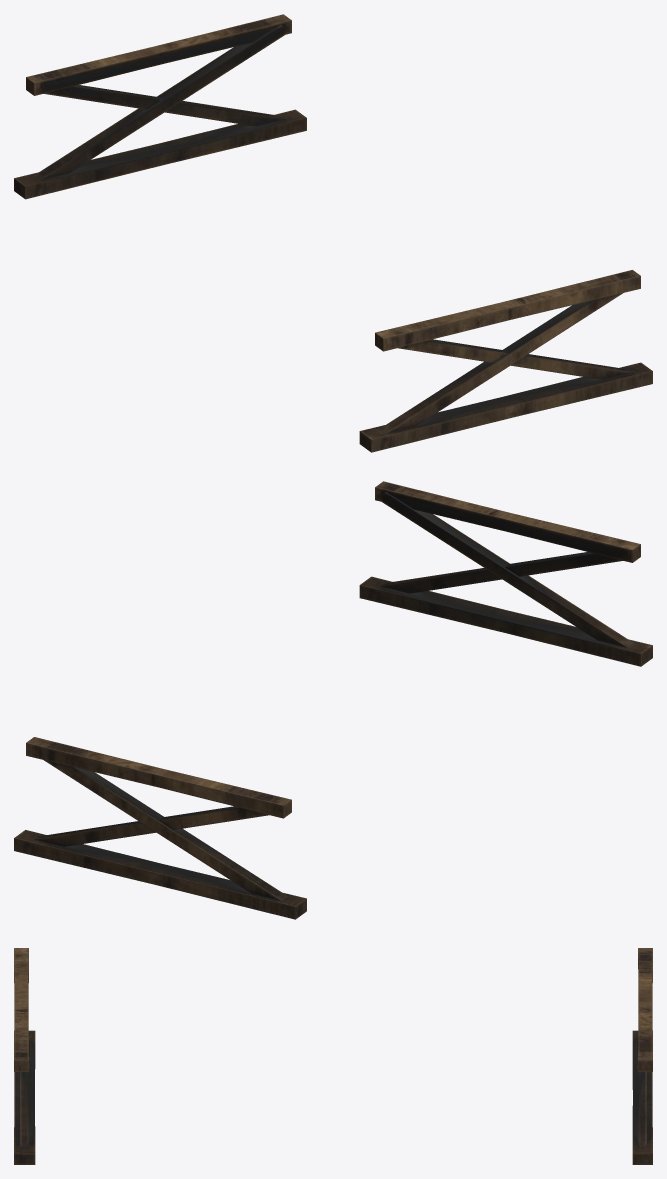
The model's file is SM_bed.glb.
3 renders of one model, top to bottom at view 1: azimuth 30°, elevation 25°; view 2: azimuth 150°, elevation 25°; view 3: azimuth 270°, elevation 25°, orthographic. The views are drawn at different scales.
Parts seen in each view (by area): view 1: SM_bed; view 2: SM_bed; view 3: SM_bed.
Boxes of the visible parts, box(x1,y1,x2,y2) form: SM_bed: box(14, 14, 652, 452); SM_bed: box(14, 481, 652, 919); SM_bed: box(14, 948, 652, 1164).
Bounding box in the file's own units: 1.13 × 0.428 × 2.48.
Materials: 1 (1 with a texture image).
